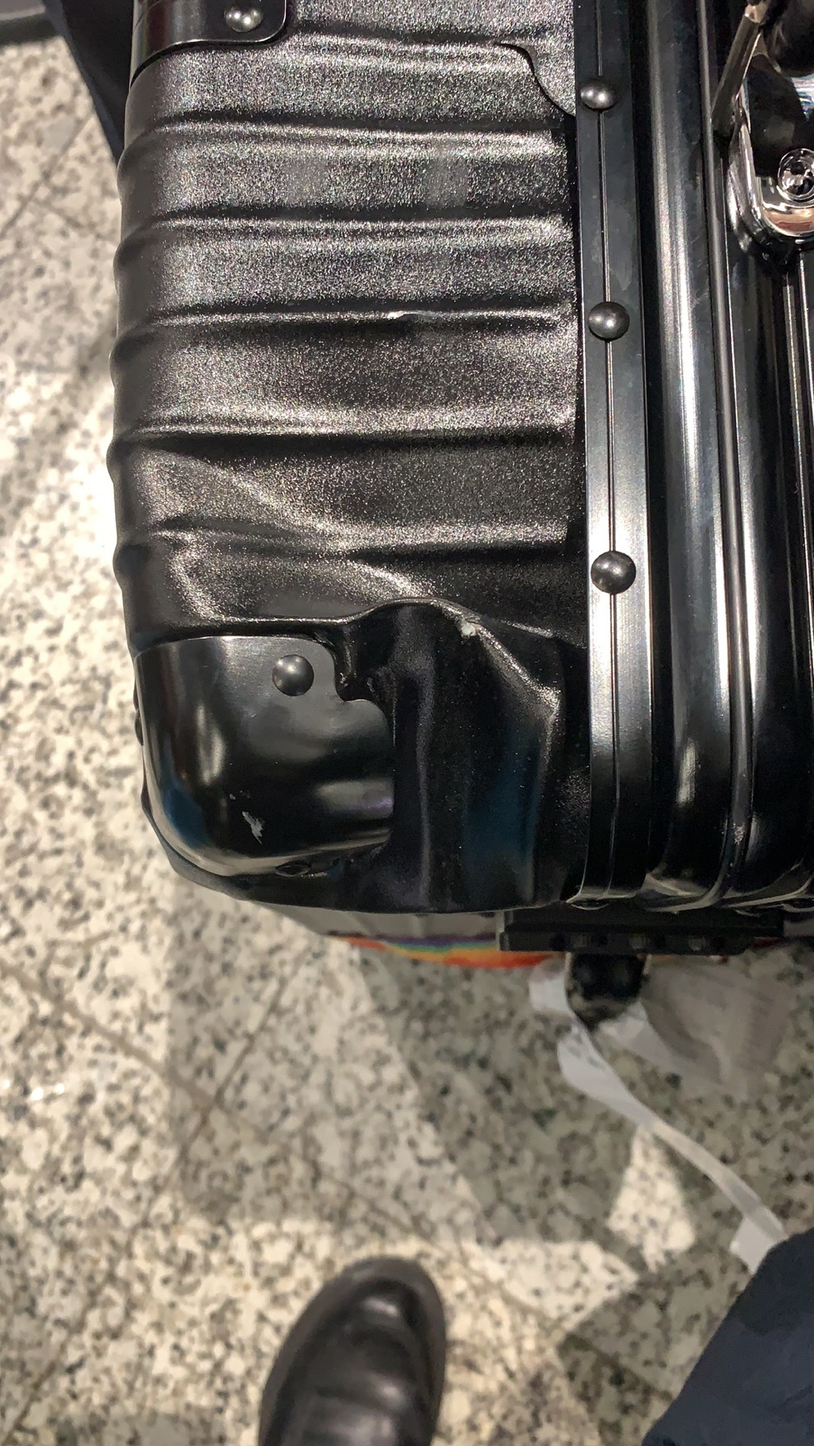hollow: (264, 595, 591, 915), (147, 438, 425, 599)
scratch: (499, 39, 574, 118)
